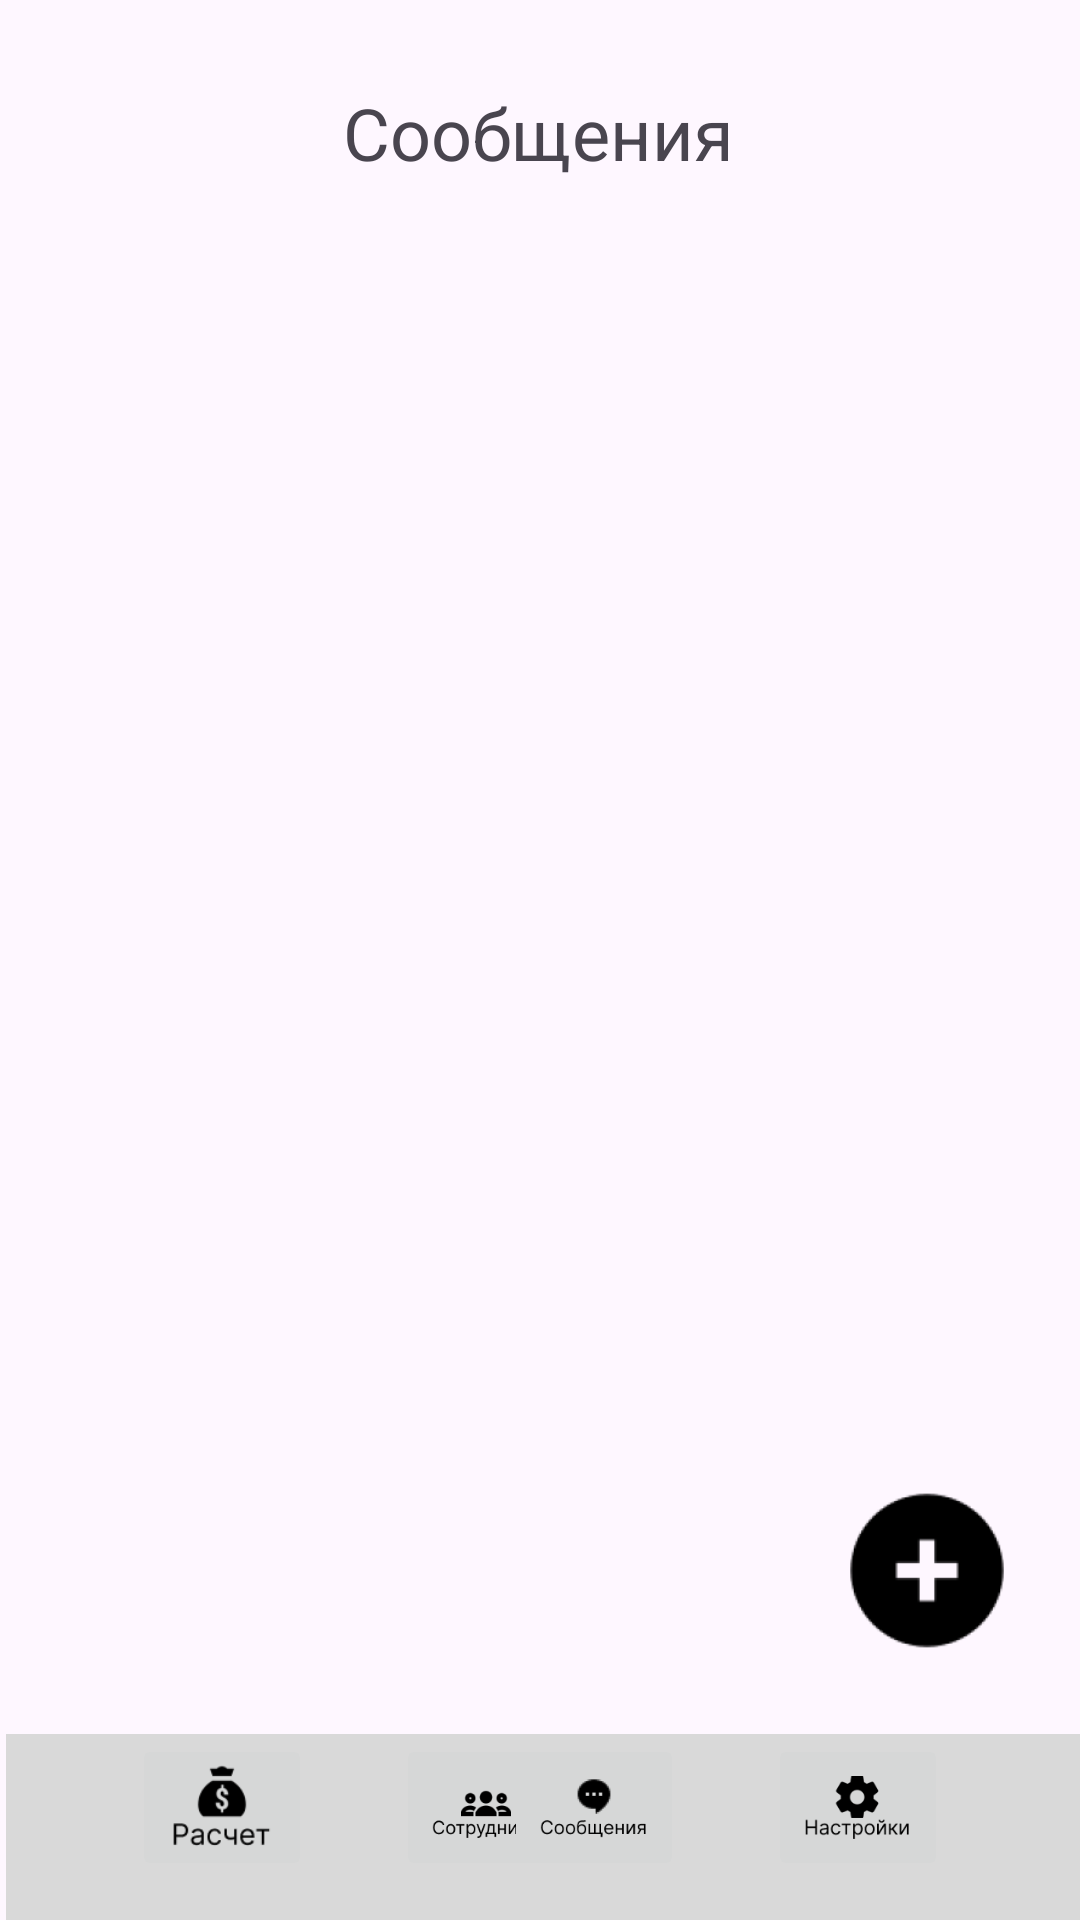

Named icons in this screenshot (1080w x 1920h) and their bounding boxes, region(x1, y1, x2, y2):
addmess: region(850, 1493, 1004, 1648)
